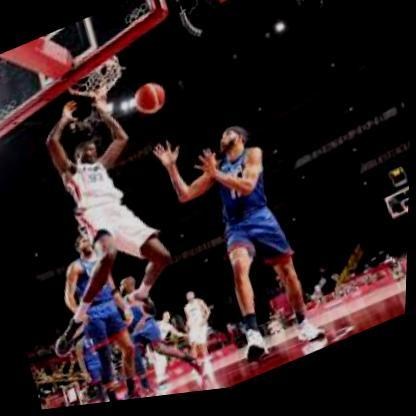basketball: (130, 79, 170, 125)
rim: (65, 55, 128, 109)
